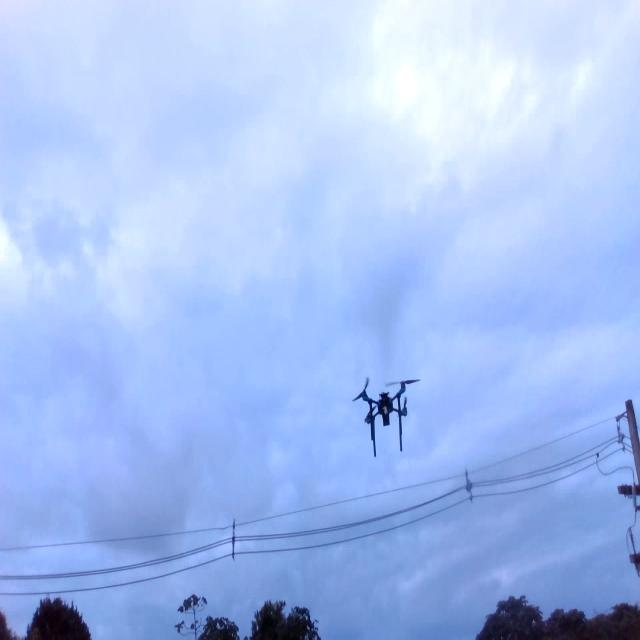-uav-: (346, 366, 426, 462)
